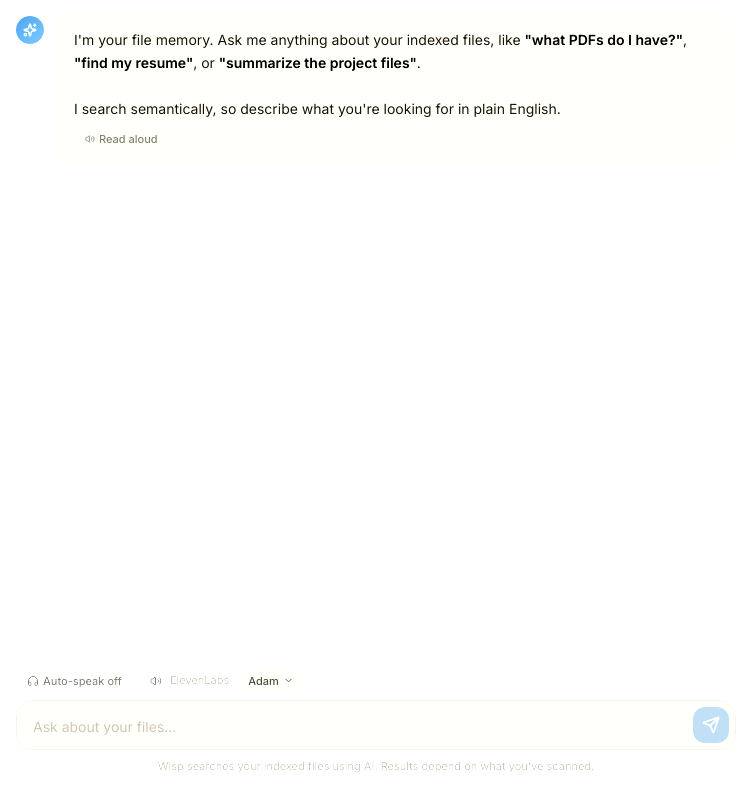
Test: MemoryView — assistant interaction › renders the assistant answer and source chips
Type "find my resume" into the text box with placeholder "Ask about your files...". click: (359, 727)
box: [33,711,685,742]
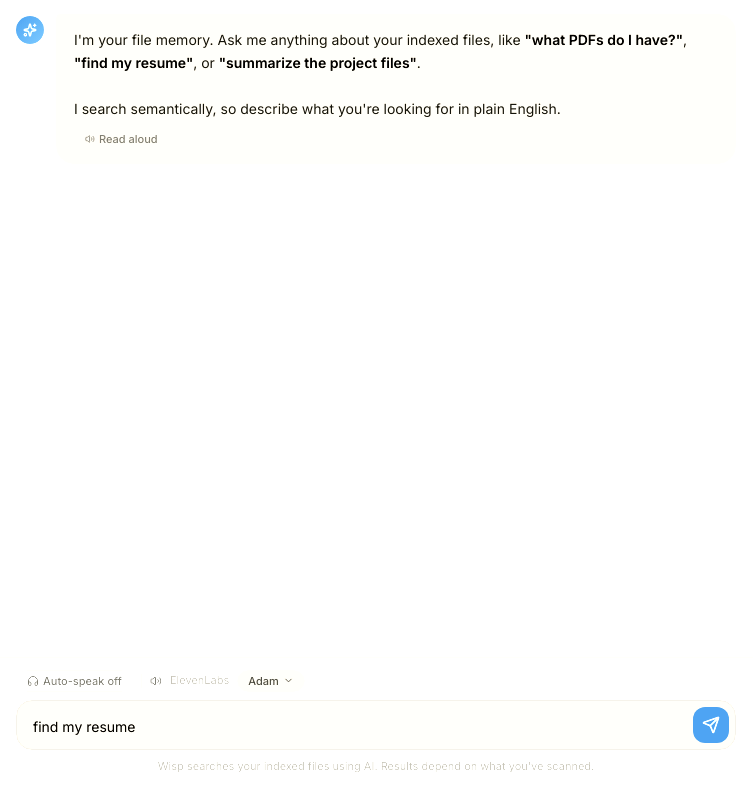
Click the button named "send". click: (711, 724)
box: [693,706,729,742]
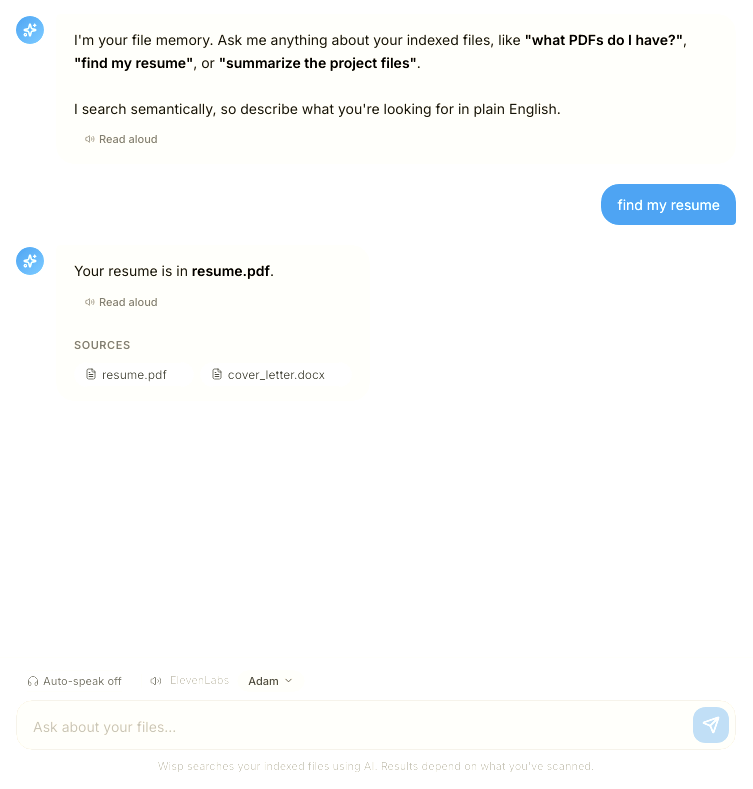
Expected: the text "Your resume is in resume.pdf." is shown, [74,262,274,280]
Expected: the text "cover_letter.docx" is shown, [228,367,325,382]
Expected: the button "resume.pdf" is shown, [74,362,194,387]
